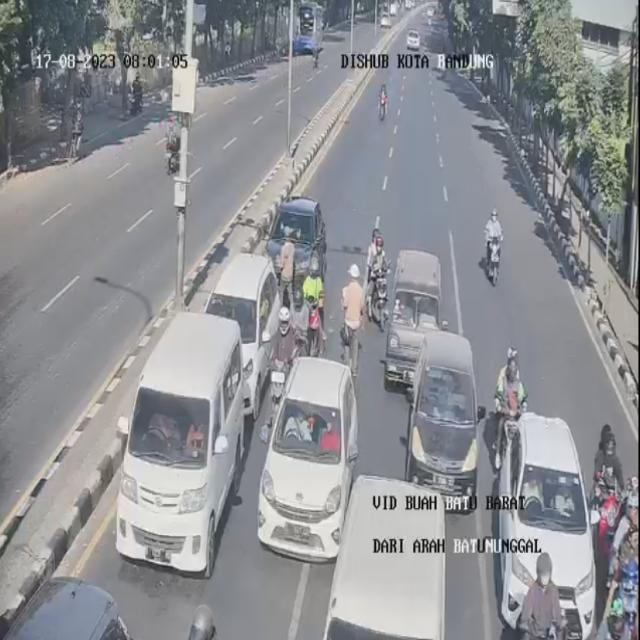cars: (122, 306, 250, 575), (484, 418, 591, 640), (316, 477, 443, 640), (254, 358, 348, 566), (408, 332, 482, 506), (204, 251, 277, 413), (386, 249, 446, 391), (2, 580, 131, 640), (272, 195, 326, 299)
motorcycle: (611, 487, 640, 639), (524, 552, 566, 640), (599, 426, 629, 538), (270, 310, 299, 404), (497, 342, 530, 420), (294, 265, 322, 355), (366, 215, 389, 322), (483, 206, 508, 286), (187, 605, 221, 640), (378, 82, 388, 126)
